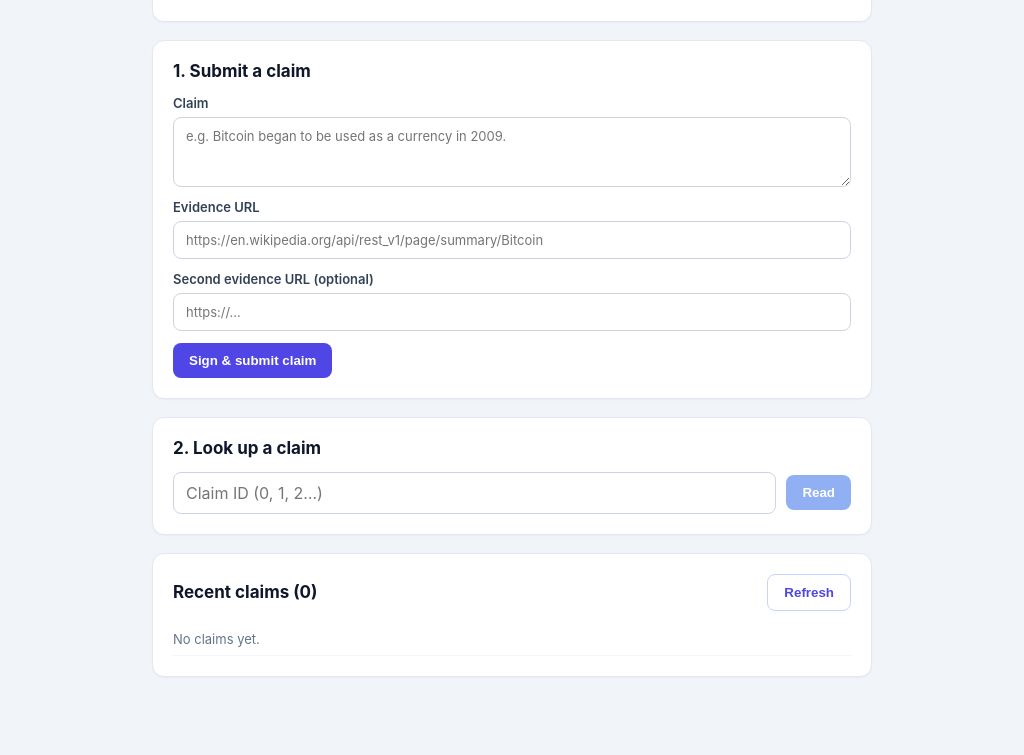
Scenario: App › rejects an invalid claim id and reports read errors
(page scrolled)
Type "abc" into the field labelled "Claim ID". click: (475, 492)
box: [173,472,776,514]
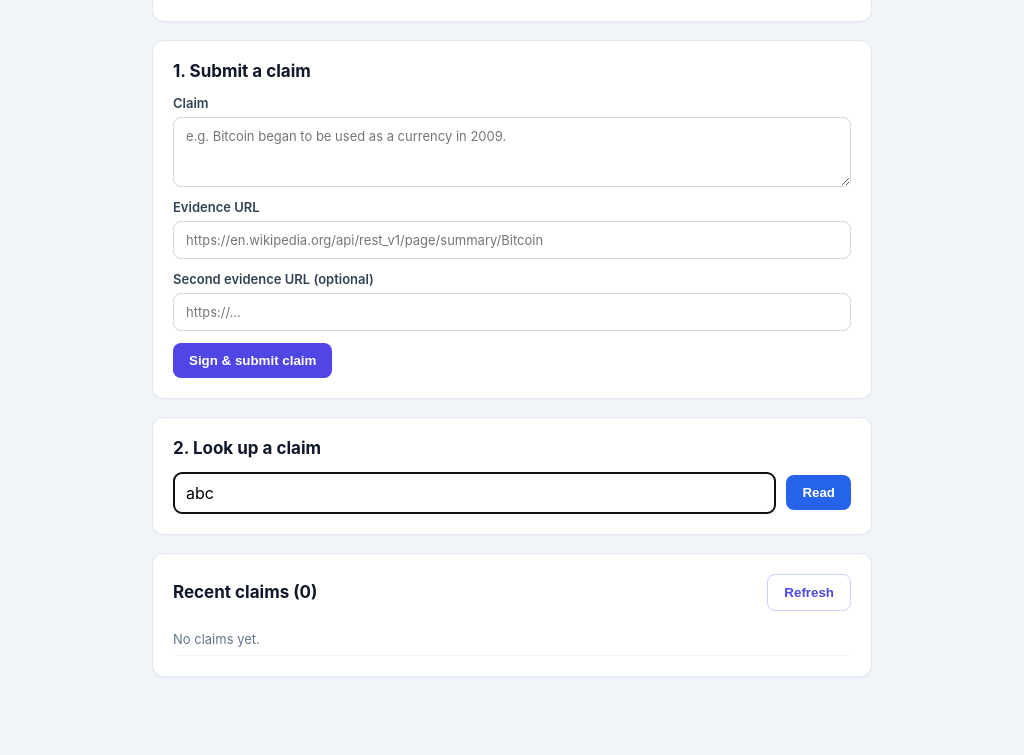
Click the button "Read". click: click(819, 492)
box: [786,475,851,510]
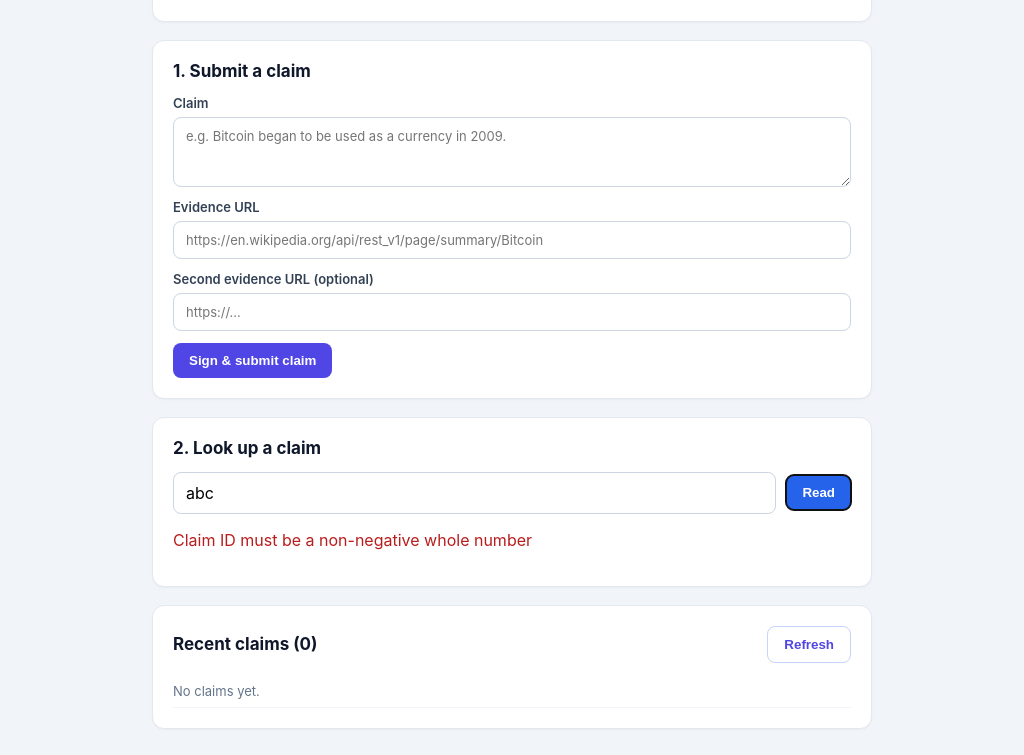
Expected: the message shows "whole number", [173,530,532,550]
Replace the text in the field named "Claim ID" with "9". click: (475, 492)
box: [173,472,776,514]
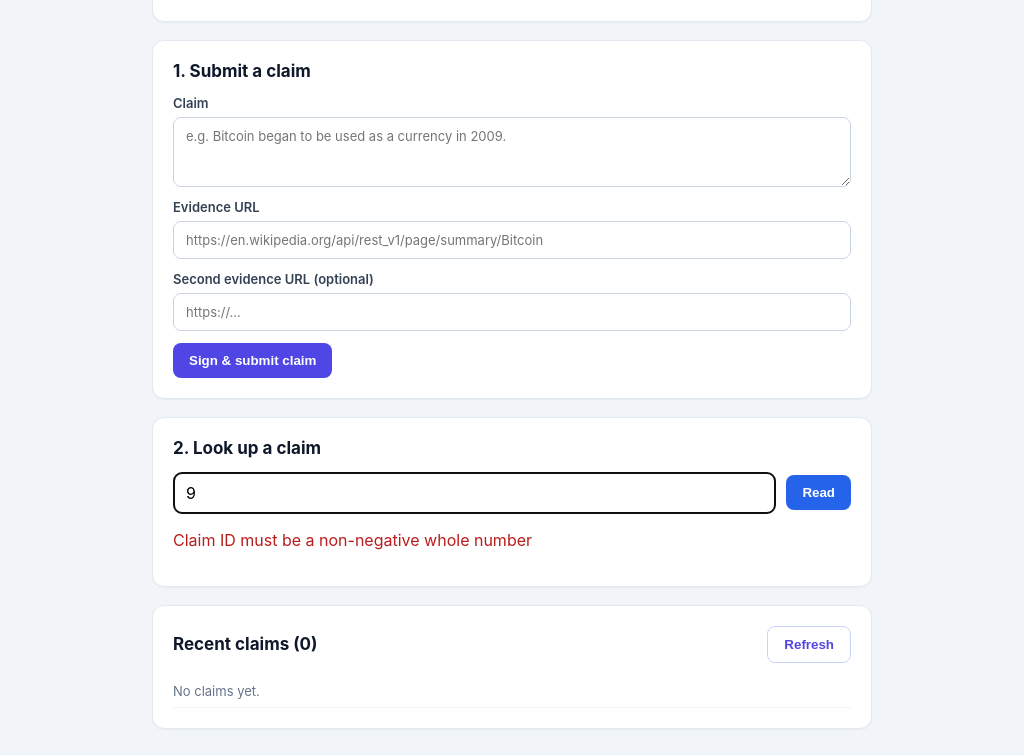
Click the button "Read". click: click(819, 492)
box: [786,475,851,510]
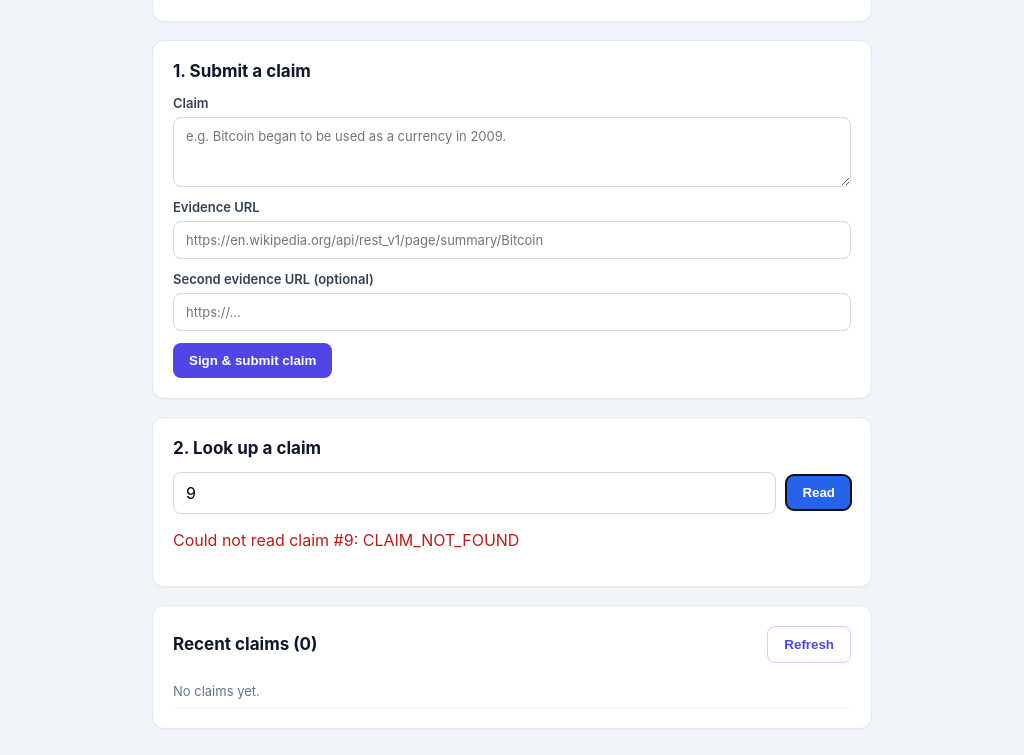
Expected: the message shows "CLAIM_NOT_FOUND", [173,530,519,550]
